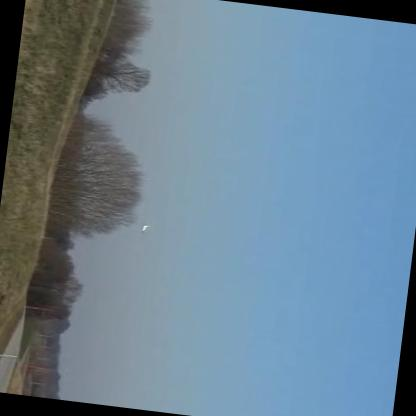plane: (133, 220, 153, 236)
